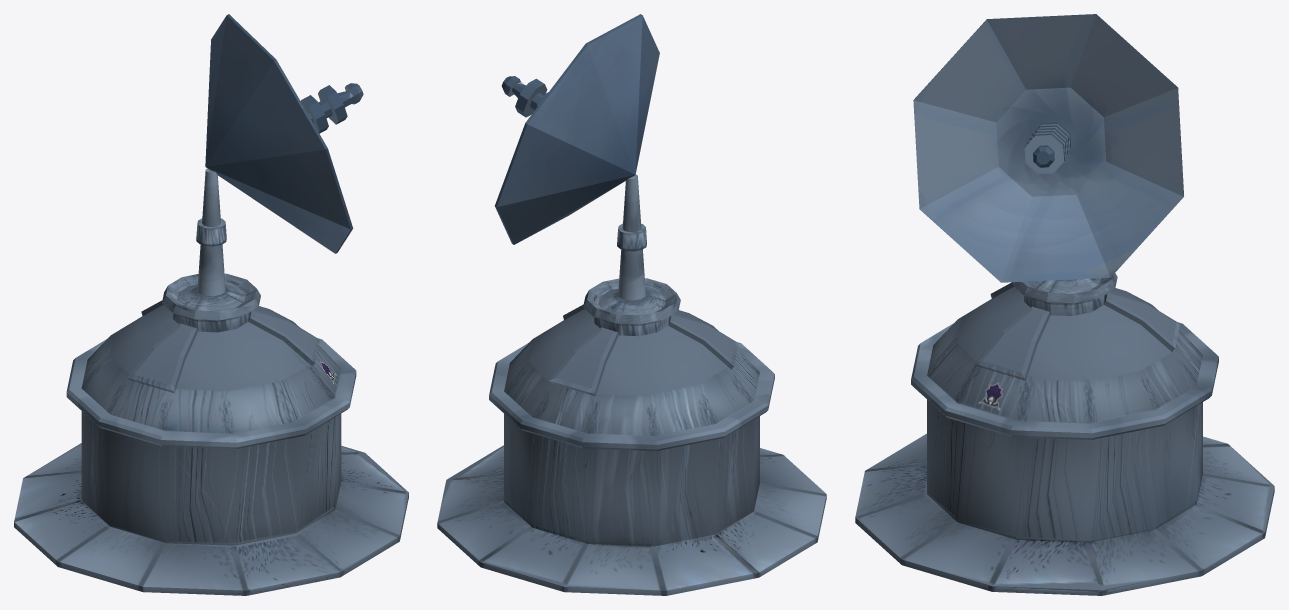
File: SM_Antenne.FBX
3 views of the same model, side by side, from view 1: azimuth 30°, elevation 25°; view 2: azimuth 150°, elevation 25°; view 3: azimuth 270°, elevation 25° (orthographic). The views are drawn at different scales.
Parts seen in each view (by area): view 1: Object001, Object002; view 2: Object001, Object002; view 3: Object001, Object002.
Boxes of the visible parts, bbox=[...] form: Object001: bbox=[14, 168, 408, 595]; Object002: bbox=[205, 14, 363, 253]; Object001: bbox=[437, 174, 826, 595]; Object002: bbox=[495, 14, 659, 244]; Object001: bbox=[855, 273, 1274, 595]; Object002: bbox=[913, 14, 1183, 282].
Size of the model in its own units: 20.33 by 27.27 by 20.33.
1 material, 1 textured.
